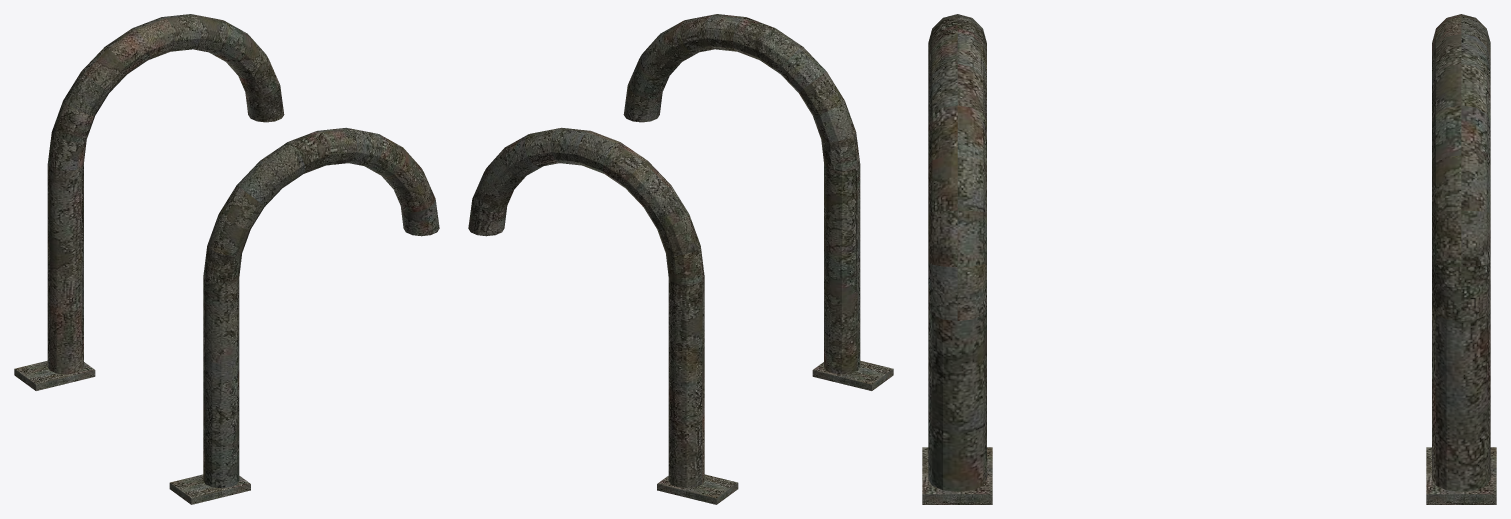
Rendered from metalladder002b.glb.
3 views of the same model, side by side, from view 1: azimuth 30°, elevation 25°; view 2: azimuth 150°, elevation 25°; view 3: azimuth 270°, elevation 25° (orthographic). The views are drawn at different scales.
Parts seen in each view (by area): view 1: 0_Metalladder002; view 2: 0_Metalladder002; view 3: 0_Metalladder002.
Part boxes in pixels (bbox=[...]): 0_Metalladder002: bbox=[14, 14, 439, 504]; 0_Metalladder002: bbox=[468, 14, 893, 504]; 0_Metalladder002: bbox=[922, 14, 1496, 504].
Bounding box in the file's own units: 0.5207 × 0.641 × 0.6223.
1 material, 1 textured.
